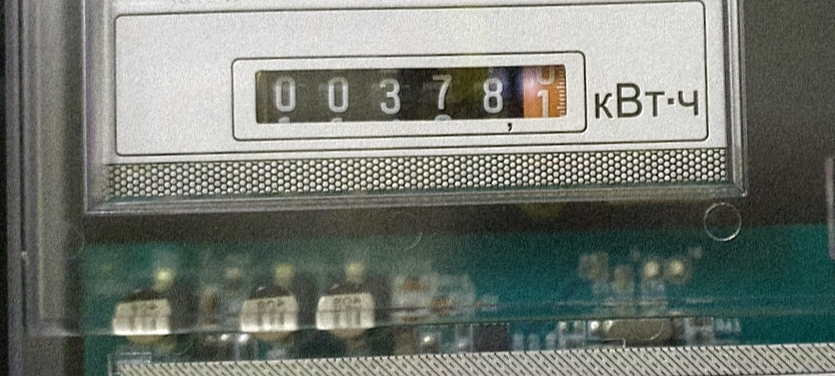0: (270, 74, 298, 115), (323, 76, 348, 116), (532, 65, 554, 88)
1: (530, 88, 550, 120)
3: (374, 77, 400, 118)
7: (426, 74, 451, 113)
8: (477, 77, 502, 117)
screen: (231, 43, 584, 142)
